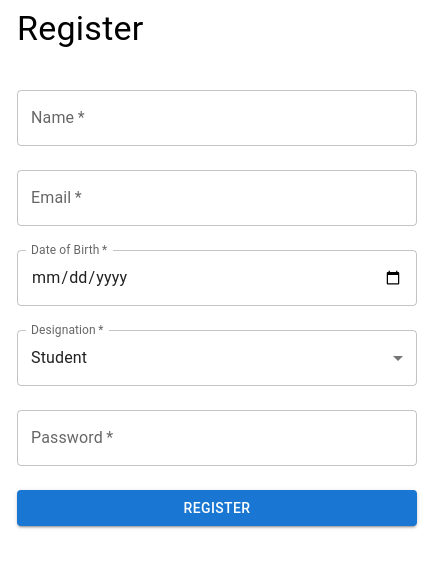
Test: Register Component › shows success message after successful registration
In the field labelled "Name *": (217, 118) [17, 90, 417, 146], type "John Doe"
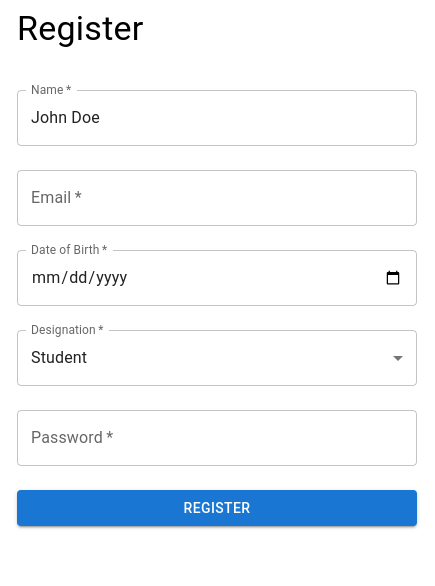
In the field labelled "Email *": (217, 198) [17, 170, 417, 226], type "john@example.com"
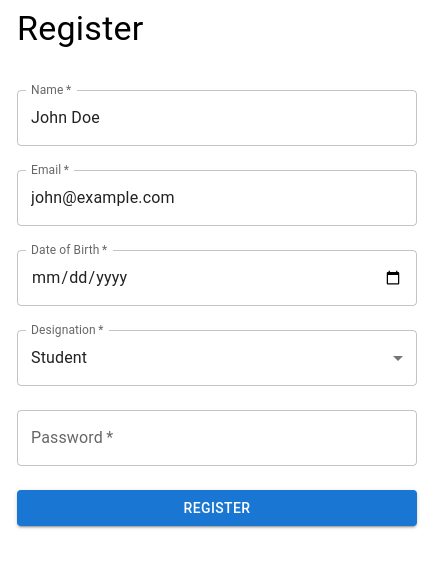
In the date field labelled "Date of Birth *": (217, 278) [17, 250, 417, 306], type "2000-01-01"
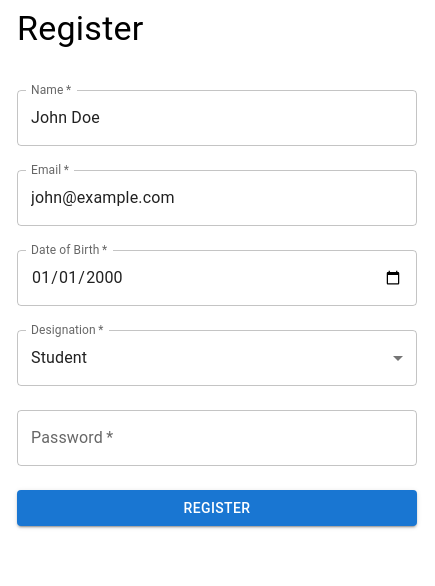
Select "Student" in the dropdown labelled "Designation *": (217, 358) [17, 330, 417, 386]
In the password field labelled "Password *": (217, 438) [17, 410, 417, 466], type "password123"
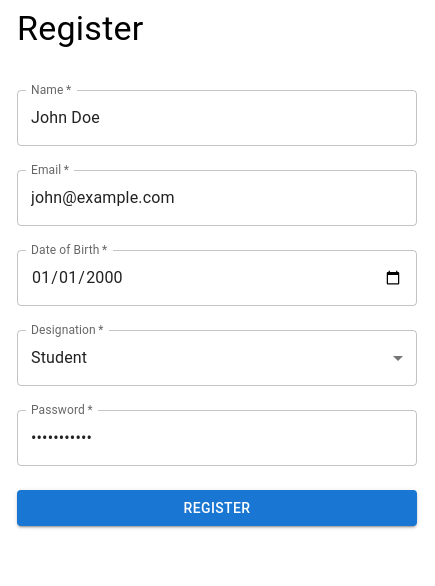
Click the button "Register": (217, 508) [17, 490, 417, 526]
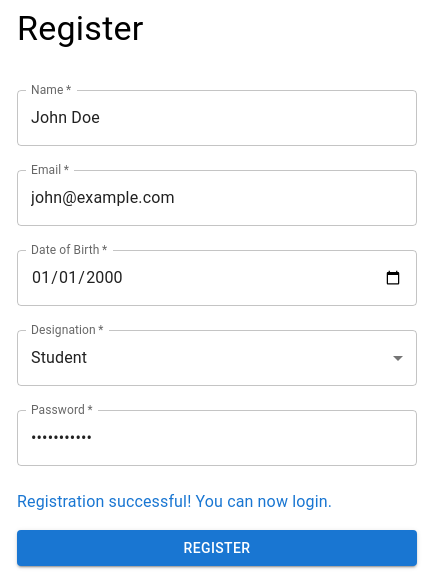
Expected: the text "Registration successful! You can now login." is shown, [17, 492, 332, 511]
